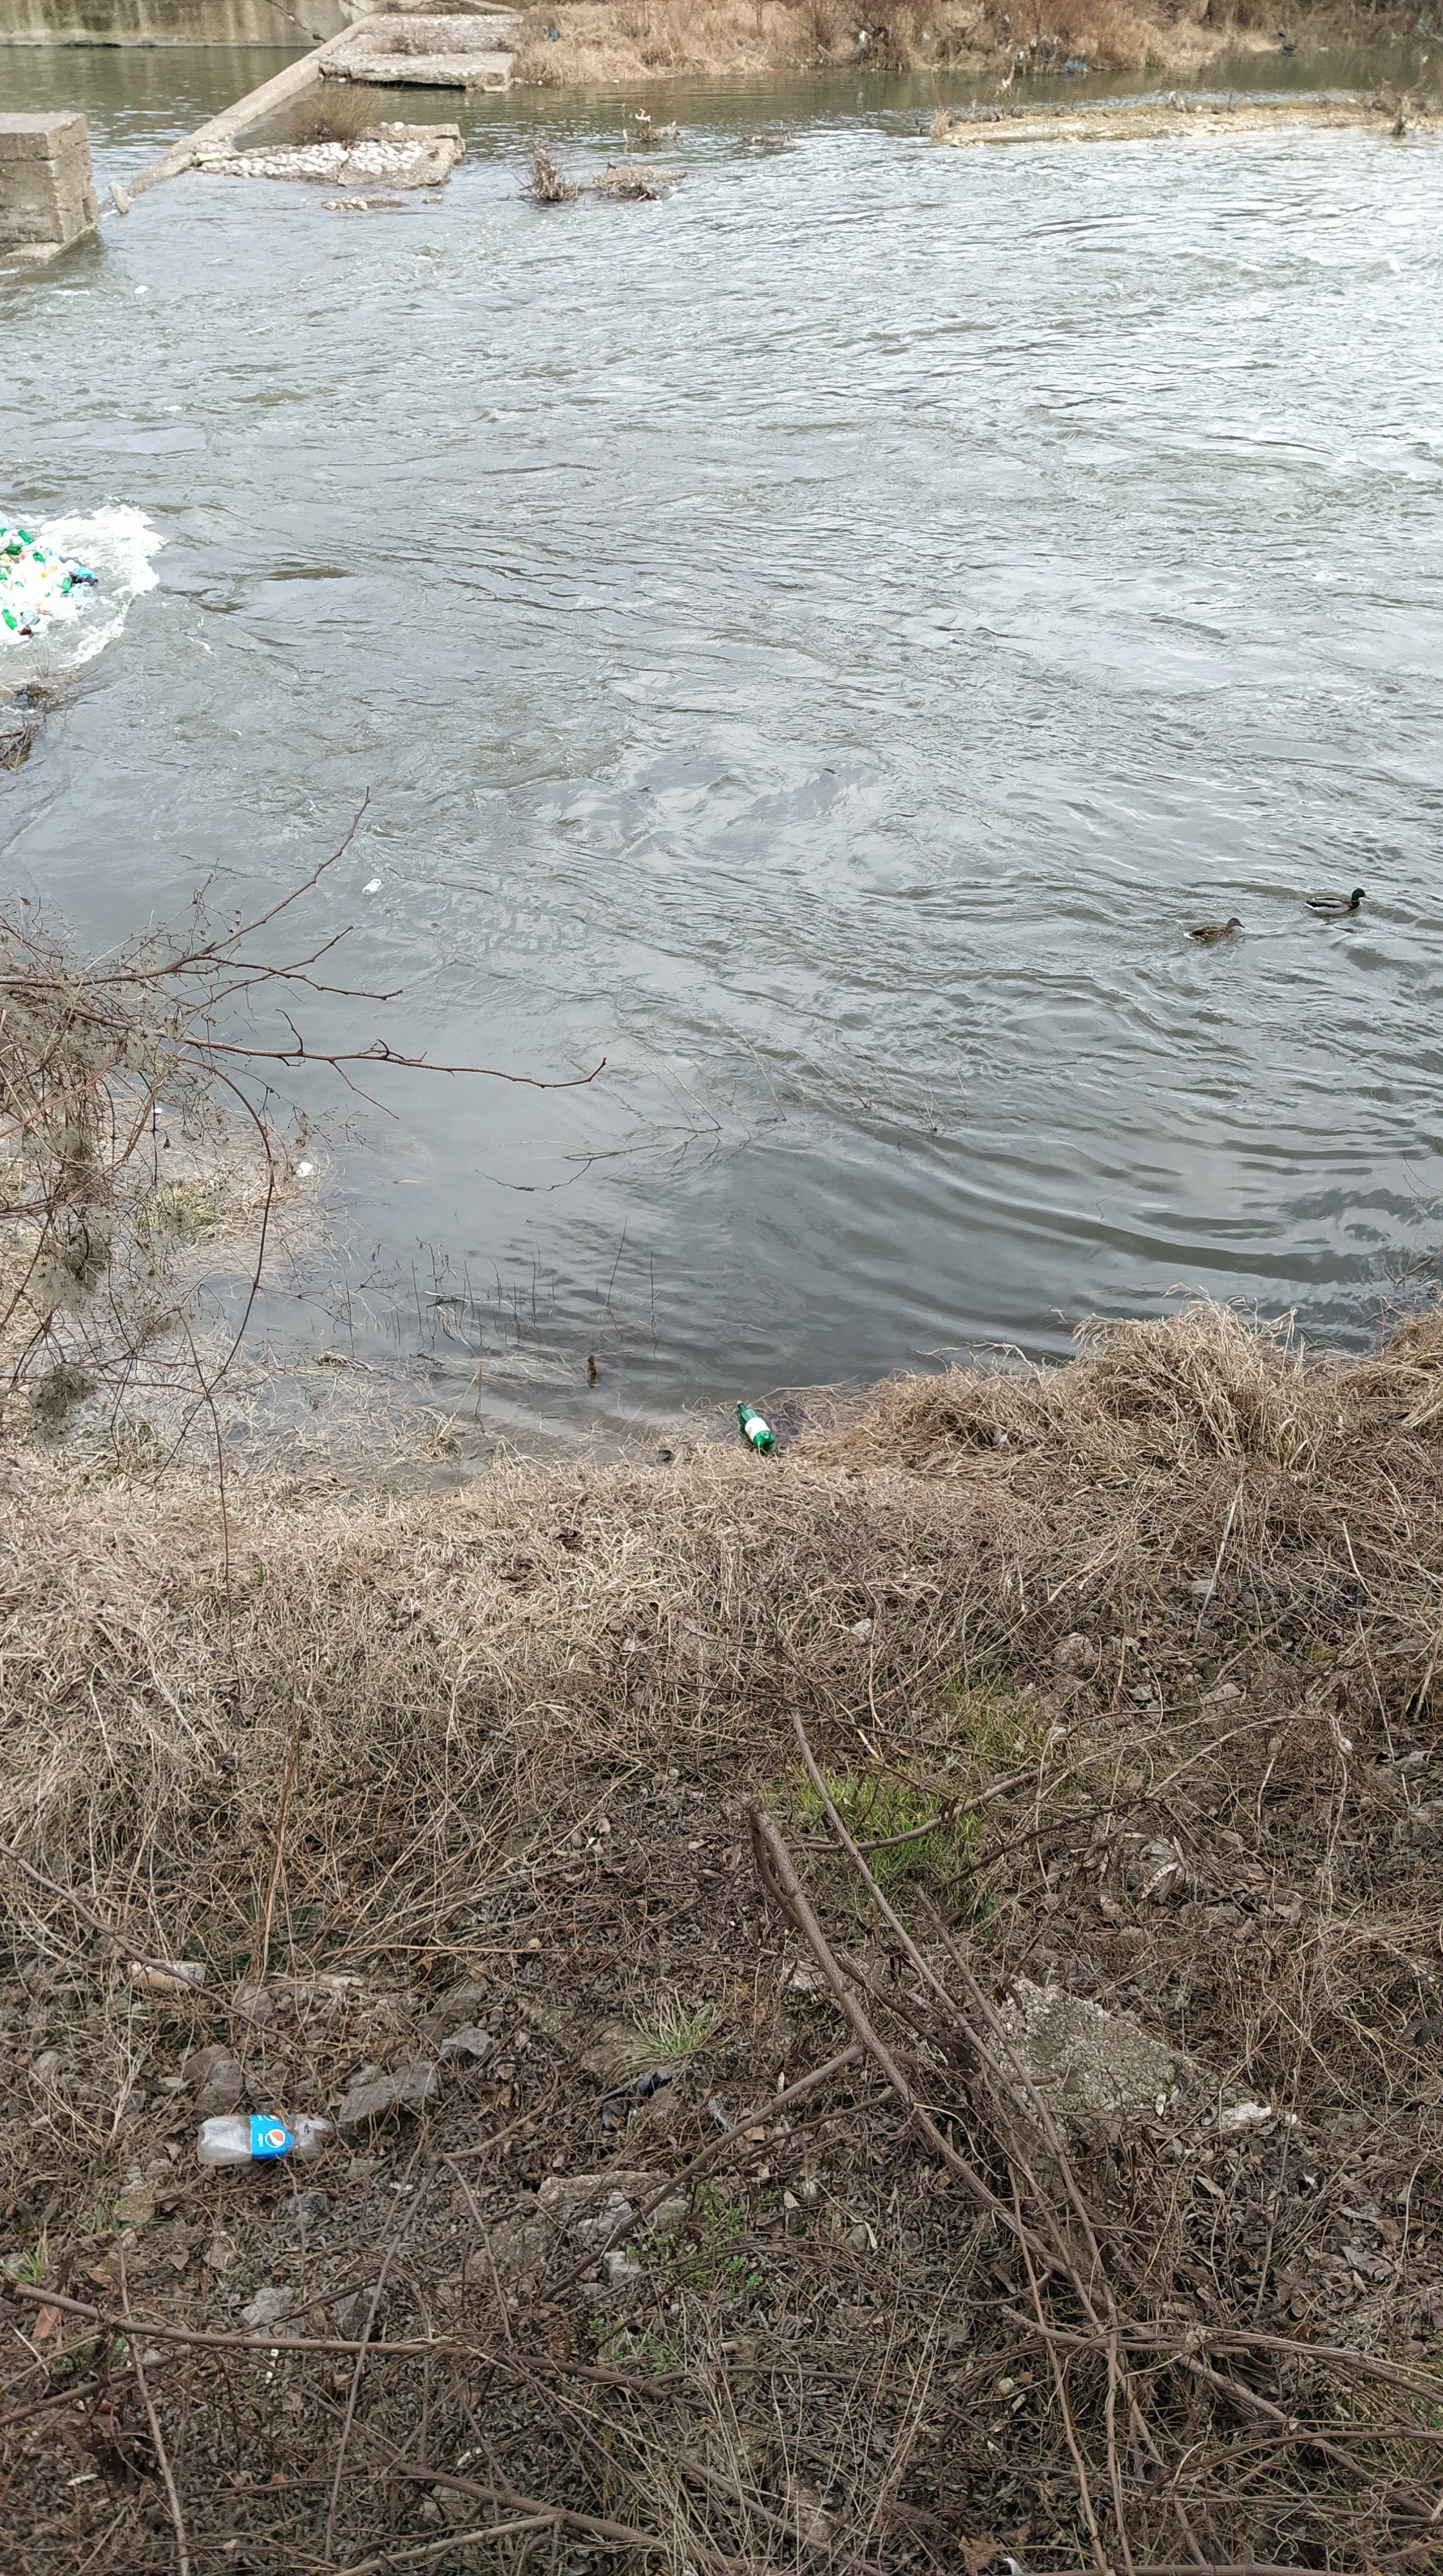Plastic Bottle: (737, 1399, 776, 1451), (19, 609, 41, 626), (361, 878, 381, 895), (2, 609, 18, 630), (42, 564, 57, 579), (18, 529, 34, 541), (5, 545, 19, 554), (135, 285, 147, 294), (41, 545, 50, 557), (62, 577, 71, 589), (34, 552, 42, 563), (21, 626, 30, 635), (16, 580, 25, 587), (0, 573, 7, 580), (0, 527, 5, 533), (768, 67, 774, 71)
